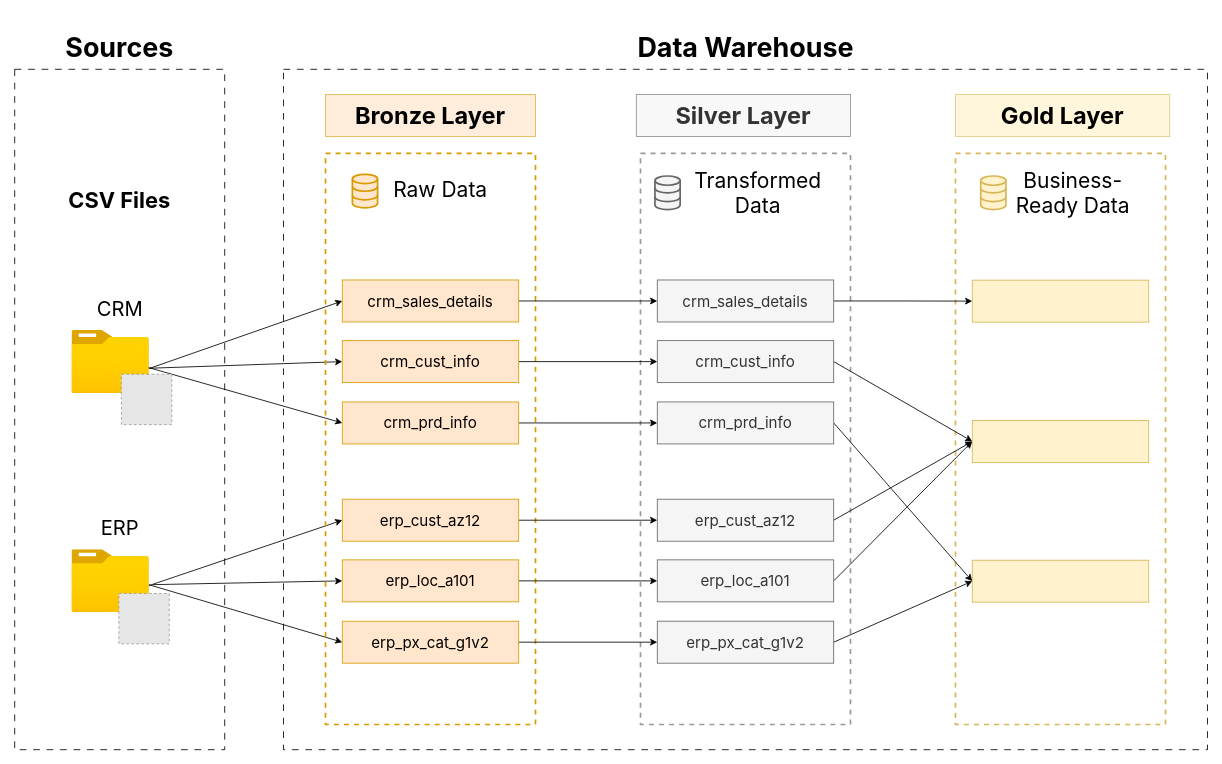
This 1222x764 diagram has some shape labels left out. Grey dashed boxes stand in for pictures. Each missing label, with the box of its shape:
dim_customers: (971, 420, 1149, 462)
dim_products: (971, 559, 1149, 602)
fact_sales: (971, 279, 1149, 322)
